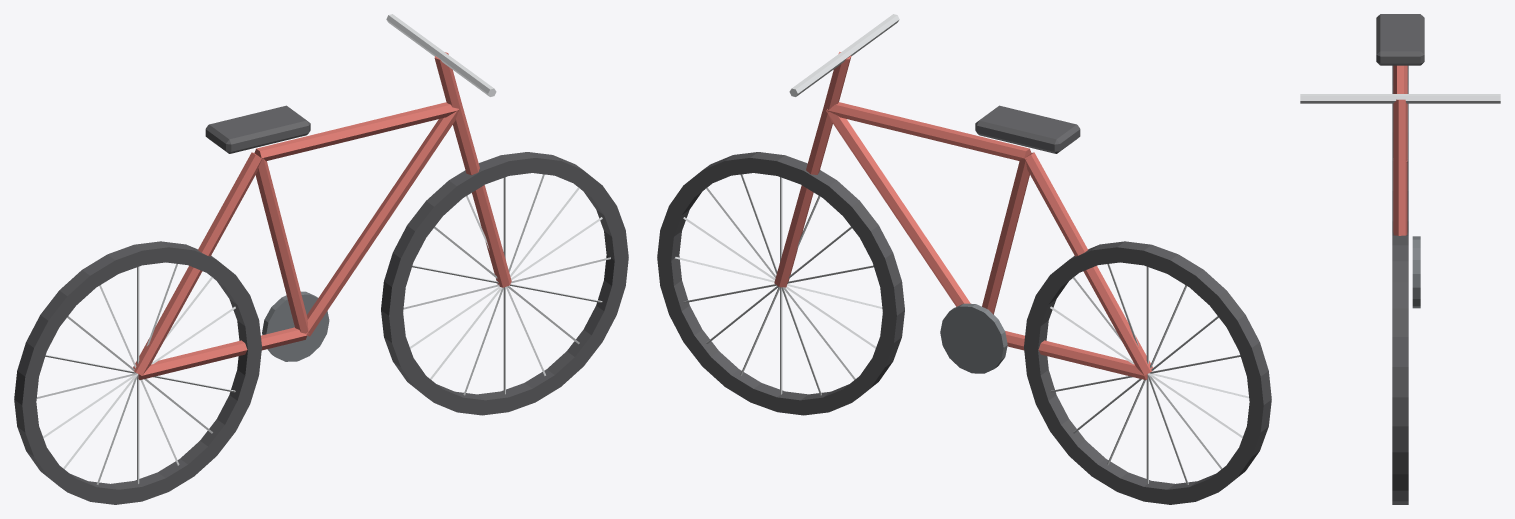
Rendered from bicycle_r.glb.
The picture shows the model from 3 angles, left to right: view 1: azimuth 30°, elevation 25°; view 2: azimuth 150°, elevation 25°; view 3: azimuth 270°, elevation 25°; orthographic projection.
Visible parts, largest first — view 1: bicycle_r_rubber, bicycle_r_paint_r, bicycle_r_chrome, bicycle_r_dark, bicycle_r_steel_d; view 2: bicycle_r_rubber, bicycle_r_paint_r, bicycle_r_chrome, bicycle_r_steel_d, bicycle_r_dark; view 3: bicycle_r_rubber, bicycle_r_dark, bicycle_r_paint_r, bicycle_r_chrome, bicycle_r_steel_d.
Part boxes in pixels (x1,y1,x2,y2): bicycle_r_rubber: [14, 152, 628, 504]; bicycle_r_paint_r: [132, 52, 511, 379]; bicycle_r_chrome: [36, 14, 610, 484]; bicycle_r_dark: [205, 105, 310, 153]; bicycle_r_steel_d: [262, 291, 329, 361]; bicycle_r_rubber: [657, 152, 1271, 504]; bicycle_r_paint_r: [774, 52, 1152, 379]; bicycle_r_chrome: [675, 14, 1249, 484]; bicycle_r_steel_d: [940, 303, 1007, 373]; bicycle_r_dark: [975, 105, 1080, 153]; bicycle_r_rubber: [1392, 65, 1408, 504]; bicycle_r_dark: [1376, 14, 1424, 65]; bicycle_r_paint_r: [1393, 65, 1407, 235]; bicycle_r_chrome: [1300, 94, 1500, 103]; bicycle_r_steel_d: [1412, 236, 1420, 308].
Size of the model in its own units: 1.72 by 1.01 by 0.5.
